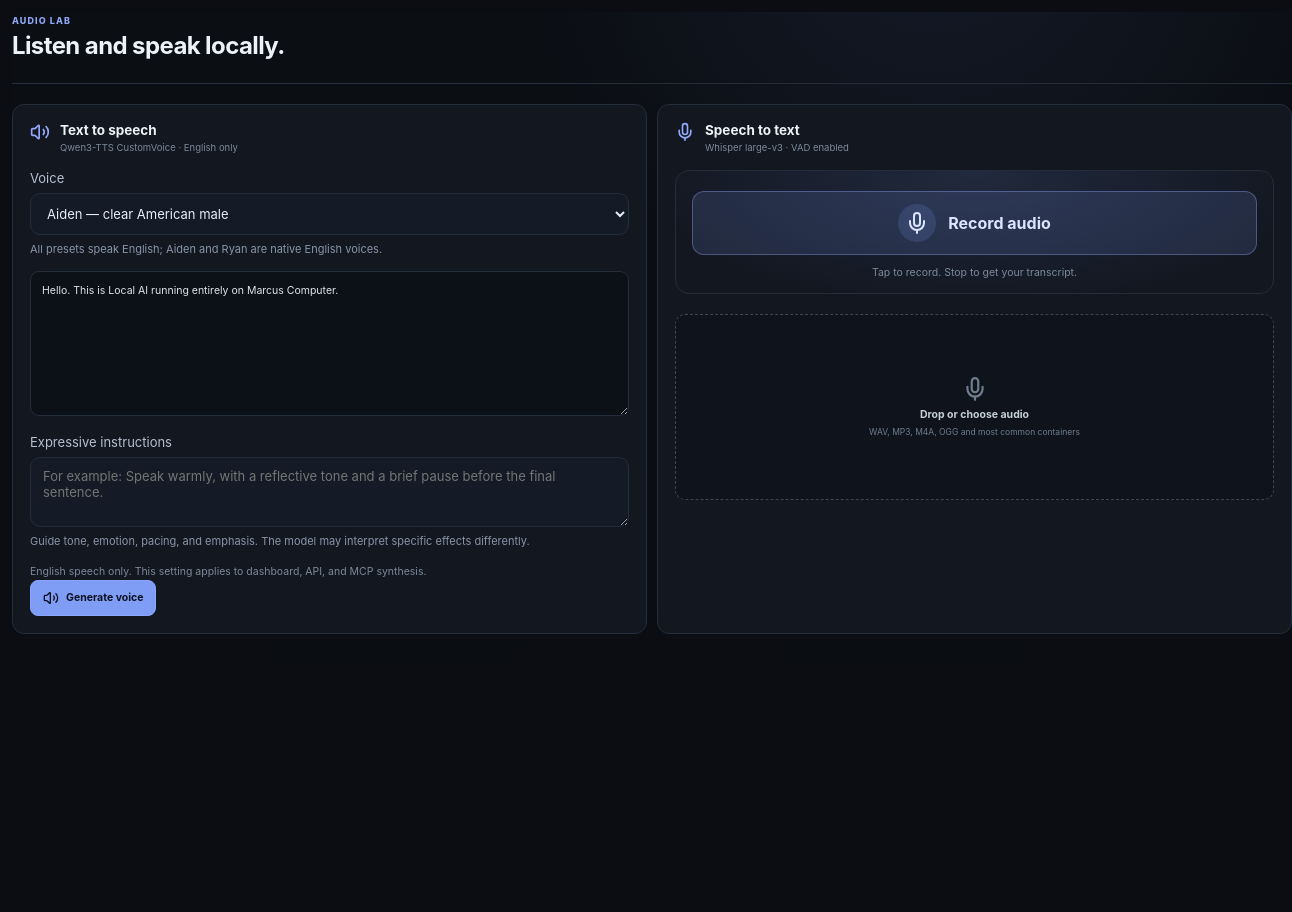
it: SpeechPanel microphone recording › records audio and sends a correctly typed File to transcription after stop
Click the button "Record audio" at (974, 223), box [692,191,1257,255]
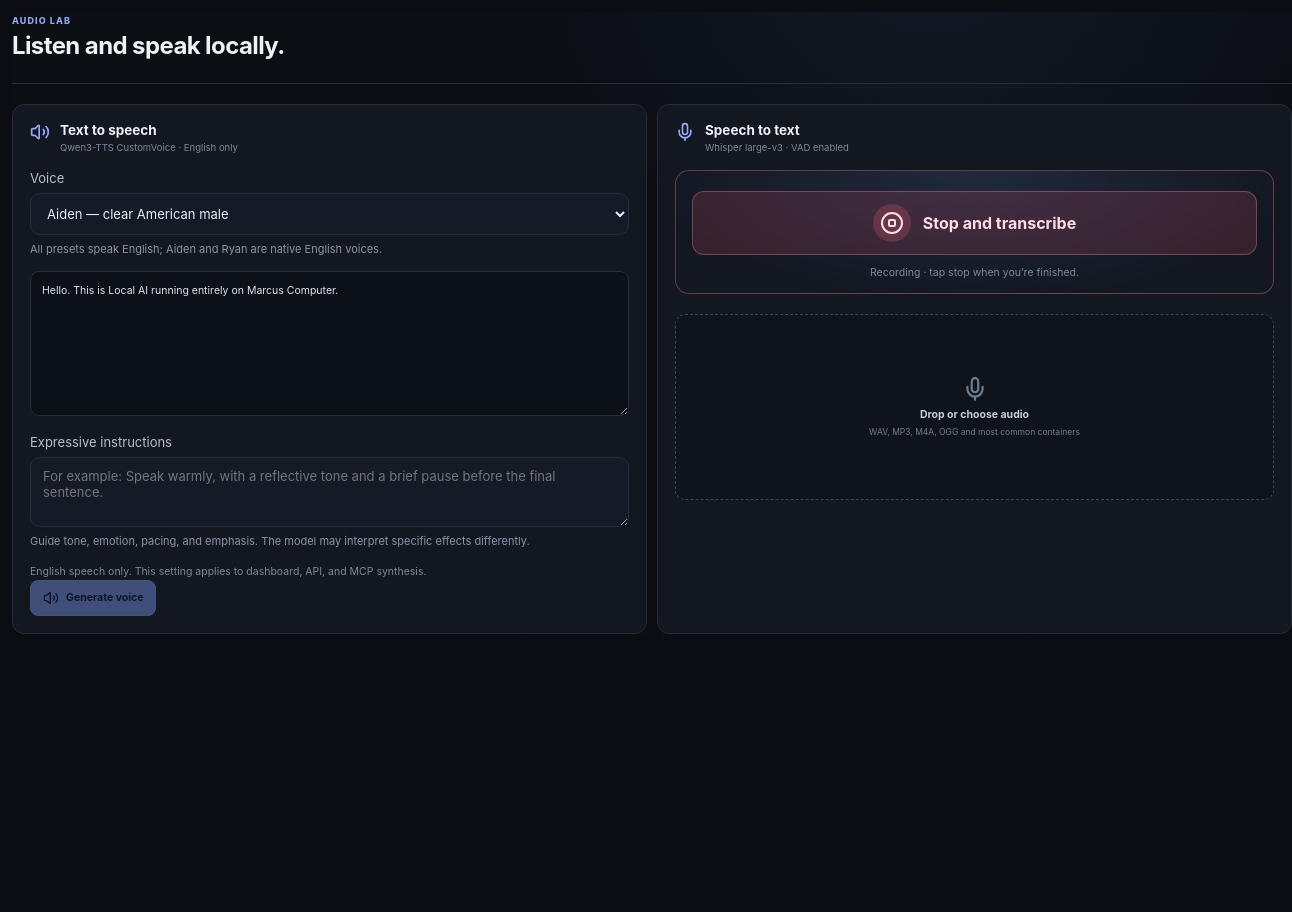
Expected: the button "Stop and transcribe" is shown
Expected: the button "Generate voice" is disabled, [30,580,156,616]
Click the button "Stop and transcribe" at (974, 223), box [692,191,1257,255]
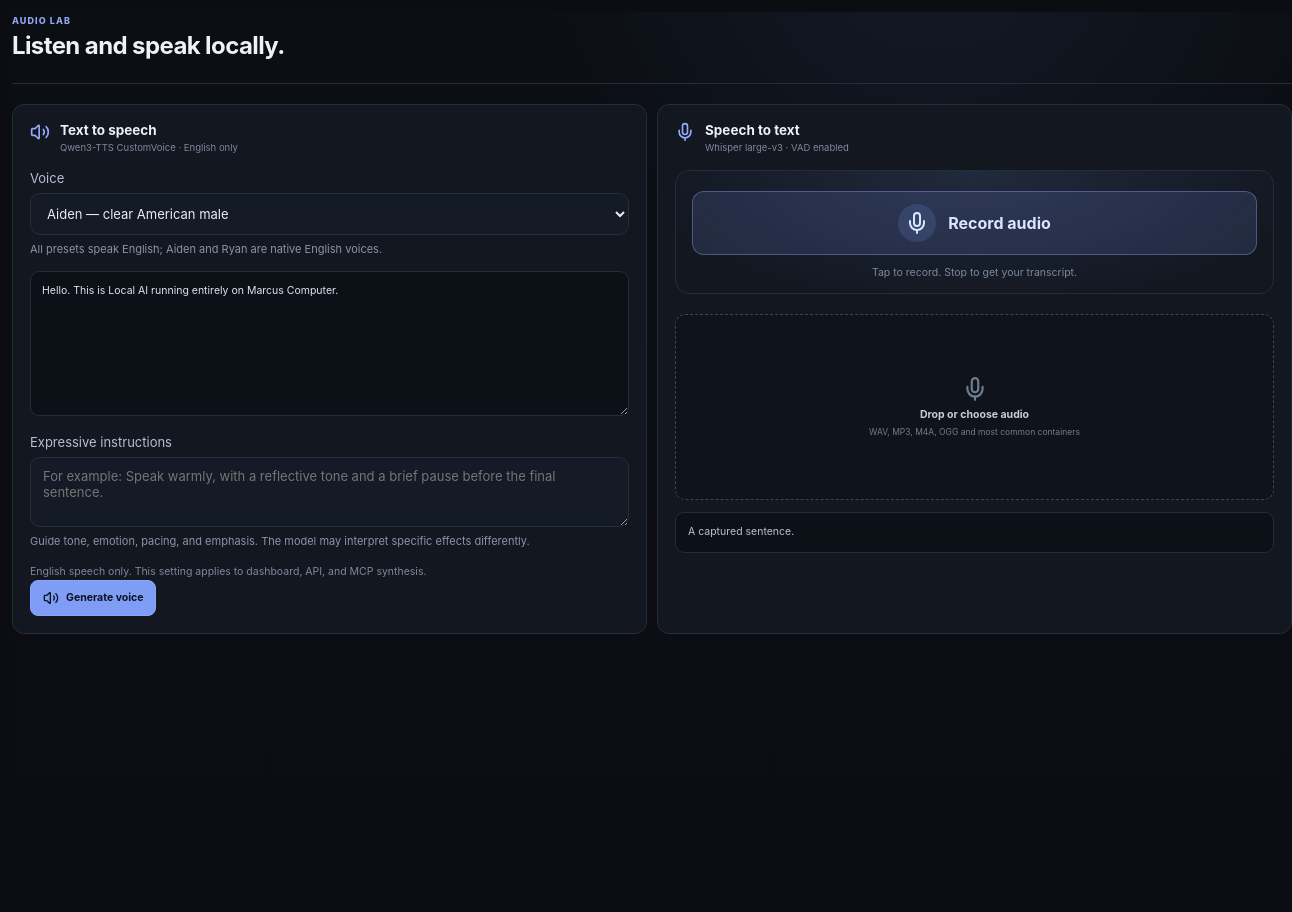
Expected: the text "A captured sentence." is shown, [675,512,1274,553]
